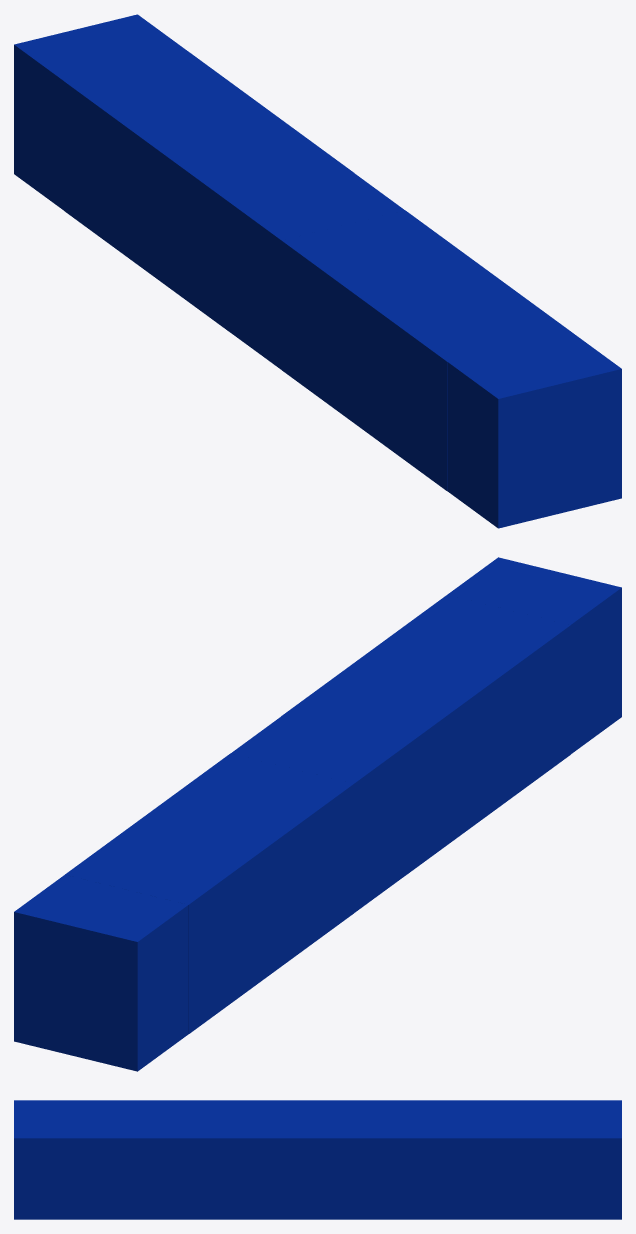
Rendered from KockeProba2.fbx.
3 views of the same model, one above another, from view 1: azimuth 30°, elevation 25°; view 2: azimuth 150°, elevation 25°; view 3: azimuth 270°, elevation 25° (orthographic). The views are drawn at different scales.
Visible parts, largest first — view 1: Lijeva, Desna, polySurface406, polySurface408, polySurface409, polySurface407, polySurface421, polySurface417, polySurface410, polySurface414, polySurface411, polySurface418 (+17 smaller); view 2: Lijeva, Desna, polySurface633, polySurface630, polySurface632, polySurface631, polySurface641, polySurface645, polySurface634, polySurface642, polySurface635, polySurface636 (+17 smaller); view 3: Lijeva, Desna, polySurface597, polySurface469, polySurface549, polySurface613, polySurface565, polySurface533, polySurface485, polySurface453, polySurface581, polySurface629 (+50 smaller).
Boxes of the visible parts, box(x1,y1,x2,y2) form: Lijeva: box(64, 51, 353, 332); Desna: box(281, 210, 570, 490); polySurface406: box(488, 384, 529, 431); polySurface408: box(488, 456, 529, 495); polySurface409: box(488, 424, 529, 463); polySurface407: box(488, 488, 529, 528); polySurface421: box(581, 361, 621, 408); polySurface417: box(550, 369, 590, 416); polySurface410: box(519, 376, 559, 423); polySurface414: box(560, 473, 590, 513); polySurface411: box(529, 416, 559, 456); polySurface418: box(591, 466, 621, 505); Lijeva: box(65, 753, 354, 1034); Desna: box(282, 595, 570, 875); polySurface633: box(106, 927, 147, 974); polySurface630: box(106, 1032, 147, 1071); polySurface632: box(106, 967, 147, 1006); polySurface631: box(106, 999, 147, 1038); polySurface641: box(45, 912, 85, 959); polySurface645: box(14, 904, 54, 951); polySurface634: box(76, 919, 116, 966); polySurface642: box(14, 1009, 44, 1048); polySurface635: box(76, 959, 106, 999); polySurface636: box(76, 992, 106, 1031); Lijeva: box(350, 1100, 558, 1219); Desna: box(78, 1100, 285, 1219); polySurface597: box(570, 1128, 583, 1158); polySurface469: box(52, 1128, 65, 1158); polySurface549: box(324, 1128, 337, 1158); polySurface613: box(583, 1128, 596, 1158); polySurface565: box(337, 1128, 350, 1158); polySurface533: box(311, 1128, 324, 1158); polySurface485: box(65, 1128, 78, 1158); polySurface453: box(39, 1128, 52, 1158); polySurface581: box(558, 1128, 570, 1158); polySurface629: box(596, 1128, 608, 1158).
Size of the model in its own units: 1 by 1 by 6.77.
